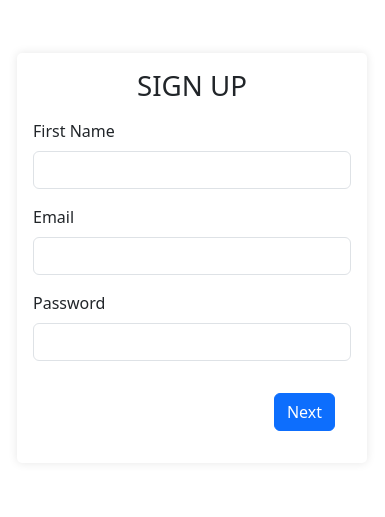
SignUpForm Component › displays validation errors for empty fields
Click the button "Next" at (304, 412), box [274, 393, 335, 431]
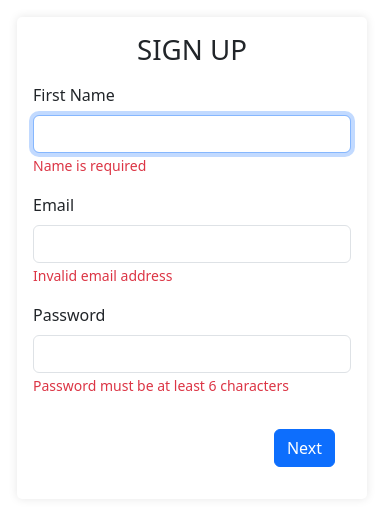
Expected: the text "Name is required" is shown, [33, 156, 146, 175]
Expected: the text "Invalid email address" is shown, [33, 266, 172, 285]
Expected: the text "Password must be at least 6 characters" is shown, [33, 376, 289, 395]
